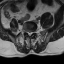CCS_normal: (28, 30, 30, 38)
LFS_stenosis: (32, 30, 34, 34)
LLS_normal: (30, 30, 32, 36)
RFS_normal: (25, 28, 27, 34)
RLS_normal: (27, 29, 28, 36)
